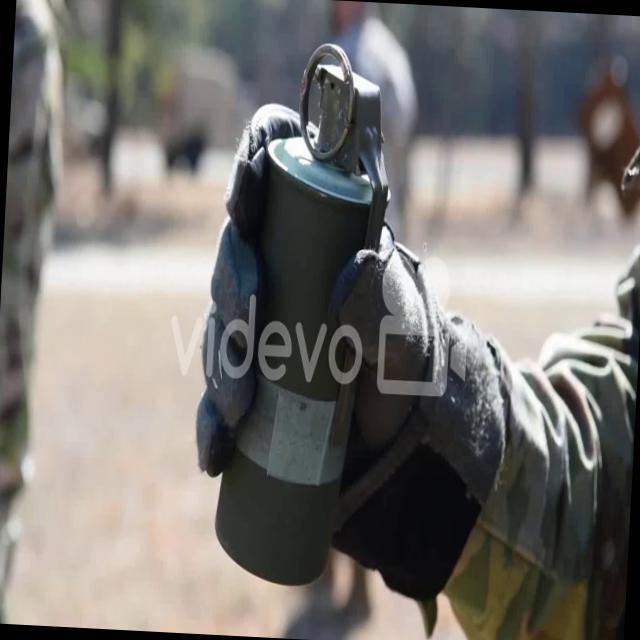grenade: (203, 36, 401, 600)
